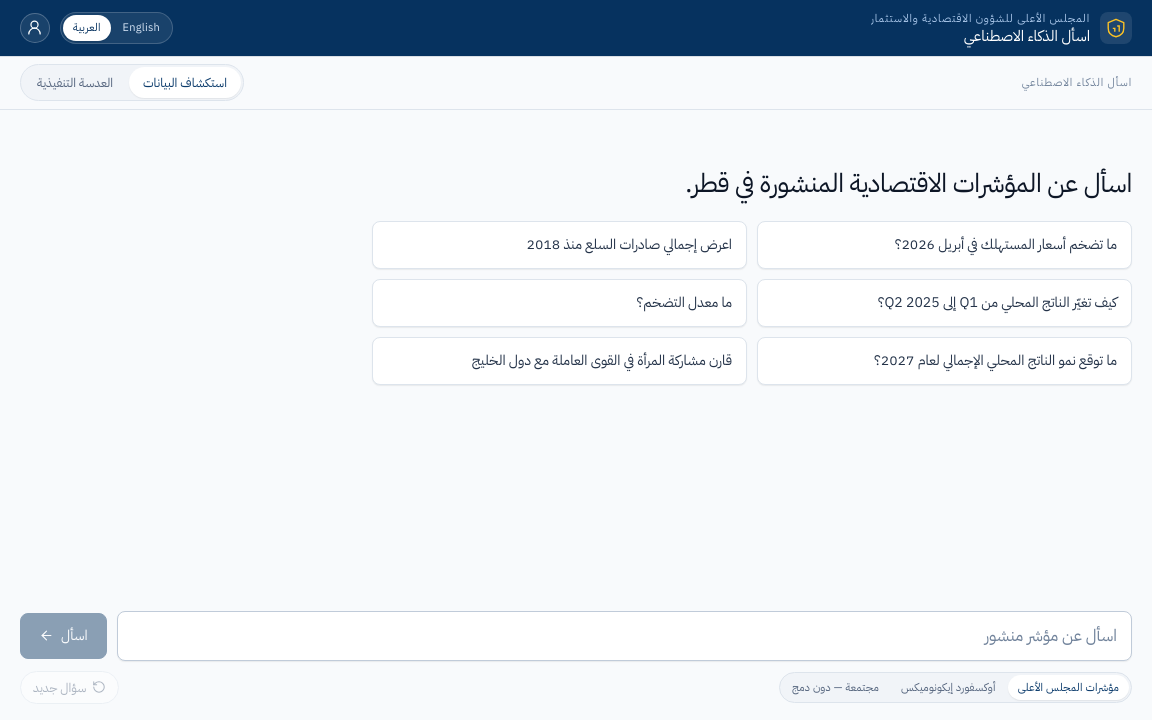
Scenario: the Arabic path › mirrors the layout and localizes every figure
The width and height of the screenshot is (1152, 720).
Click the button "ما تضخم أسعار المستهلك في أبريل 2026؟".
click(944, 245)  # box [757,222,1132,269]
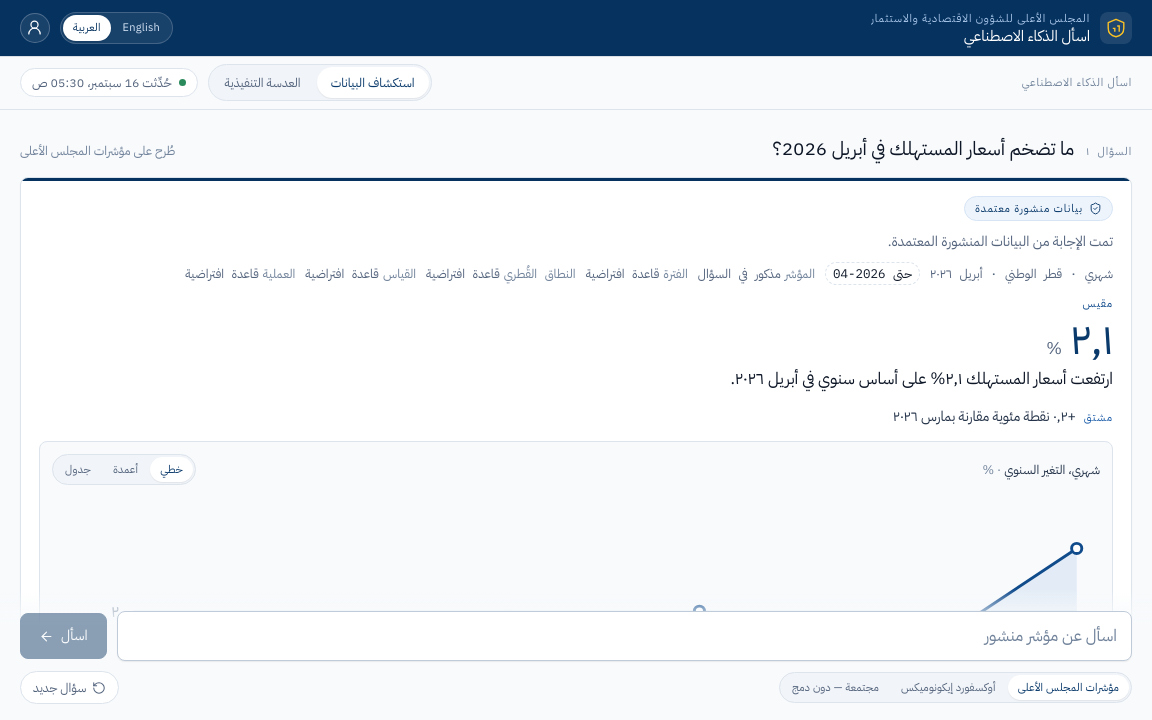
Check: the text "ارتفعت أسعار المستهلك ٢٫١% على أساس سنوي في أبريل ٢٠٢٦." is shown, box [731,366,1113,391]
Check: the text "٢٫١" is shown, box [1070,316,1113,362]
Check: the text "شهري · قطر الوطني · أبريل ٢٠٢٦" is shown, box [930,264,1113,283]
